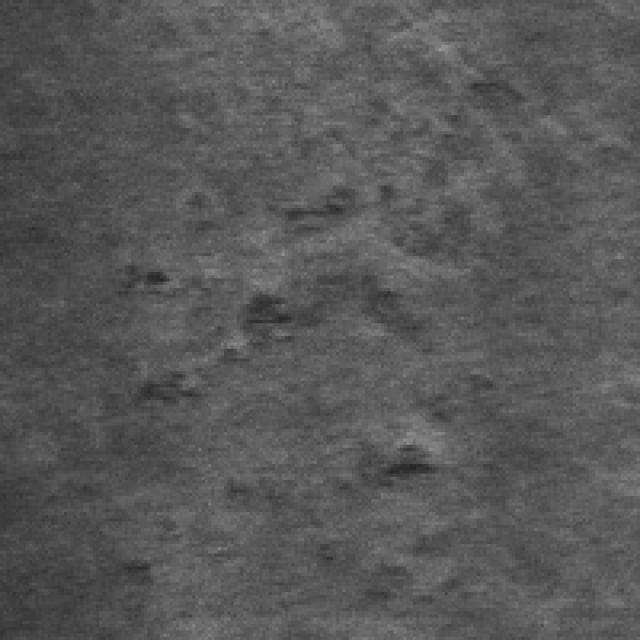rolled-in_scale: (218, 86, 464, 496)
